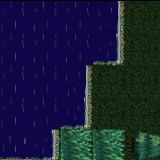Interaction: (78, 57, 98, 133), (111, 0, 132, 67), (47, 121, 78, 160), (0, 142, 47, 160), (98, 57, 112, 67)
Obstacle: (124, 128, 158, 160)
Slow: (0, 0, 115, 58), (0, 59, 84, 124), (60, 129, 124, 160), (0, 124, 52, 155)
